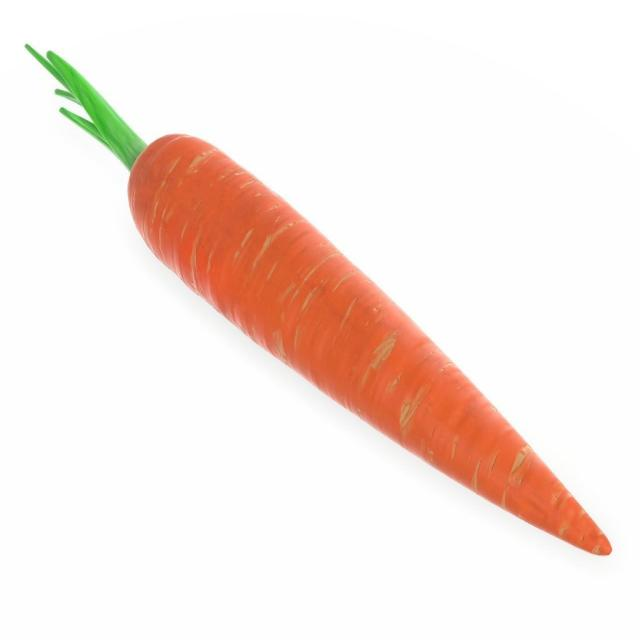Carrot: (31, 49, 616, 561)
